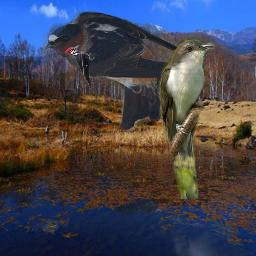Cuckoo: (160, 34, 215, 199)
Swallow: (43, 9, 207, 131)
Woodpecker: (65, 45, 95, 90)
